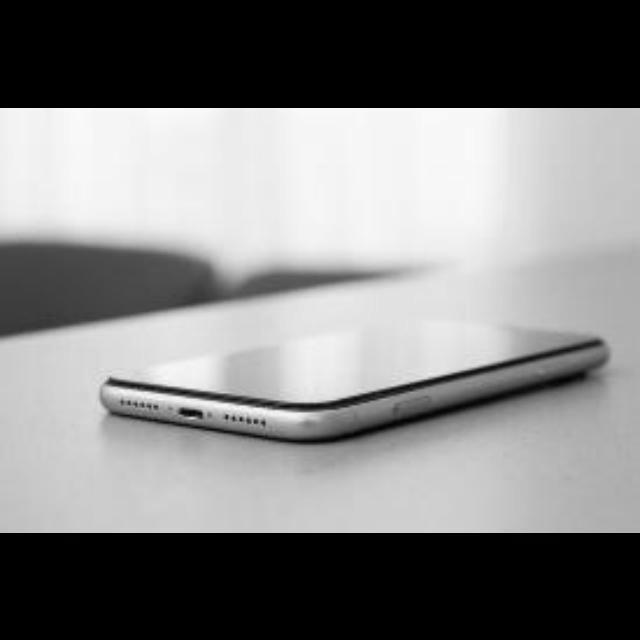fake: (69, 270, 623, 466)
